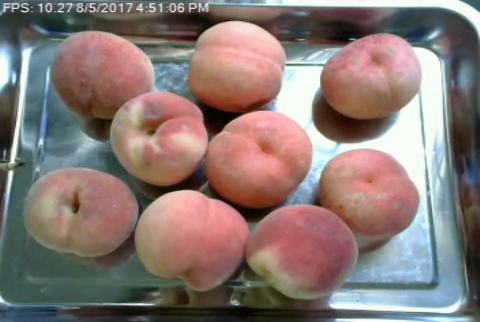Peach: (135, 190, 247, 289), (247, 203, 356, 301), (207, 110, 313, 209), (24, 167, 138, 257), (106, 90, 209, 187), (316, 147, 420, 243), (315, 32, 421, 122), (52, 29, 154, 121), (188, 19, 285, 113)
